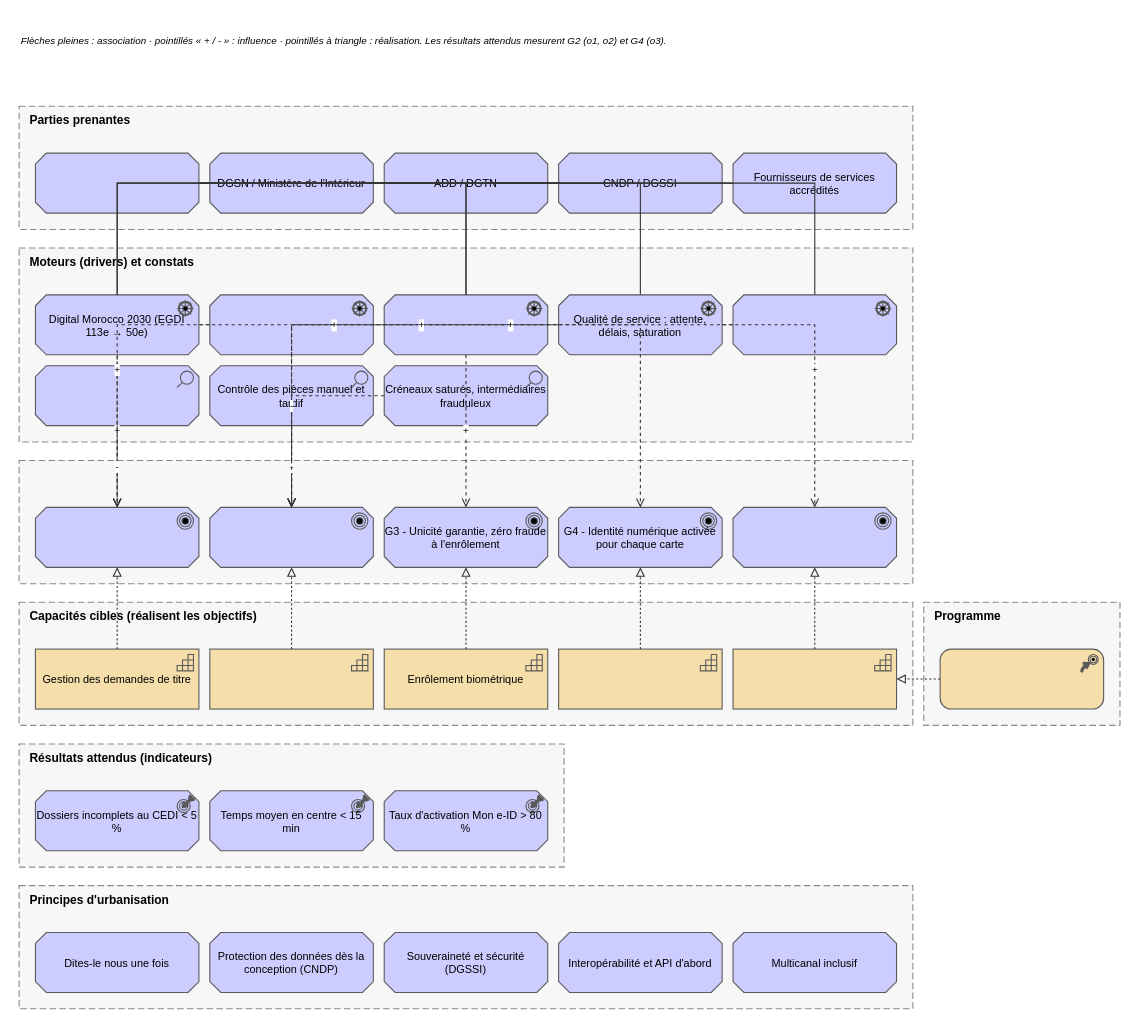
Some shapes in this 1139 by 1028 pixel diagram are drawn without their labels. The box of each missing label's shape, as (x1, y1, x2, y2) in pixels:
Canaux en silos (cnie.ma, epolice.ma, identitenumerique.ma): (34, 365, 199, 426)
Citoyens et MRE: (34, 152, 199, 213)
Contrôle documentaire par IA: (209, 648, 373, 709)
G1 - Démarche CNIE 100 % en ligne jusqu'à la biométrie: (34, 506, 199, 567)
G2 - Diviser par 2 le délai et l'attente en centre: (209, 506, 373, 567)
G5 - Pilotage par la donnée et l'IA: (732, 506, 897, 567)
Identité numérique et authentification: (558, 648, 722, 709)
Inclusion numérique (ruraux, seniors, MRE): (732, 294, 897, 355)
Loi 55-19 : simplification et numérisation: (209, 294, 373, 355)
Lutte contre la fraude et l'usurpation: (383, 294, 548, 355)
Objectifs stratégiques: (18, 459, 913, 584)
Pilotage prédictif et gestion de la capacité: (732, 648, 897, 709)
Programme « CNIE numérique 2030 »: (939, 648, 1104, 709)
